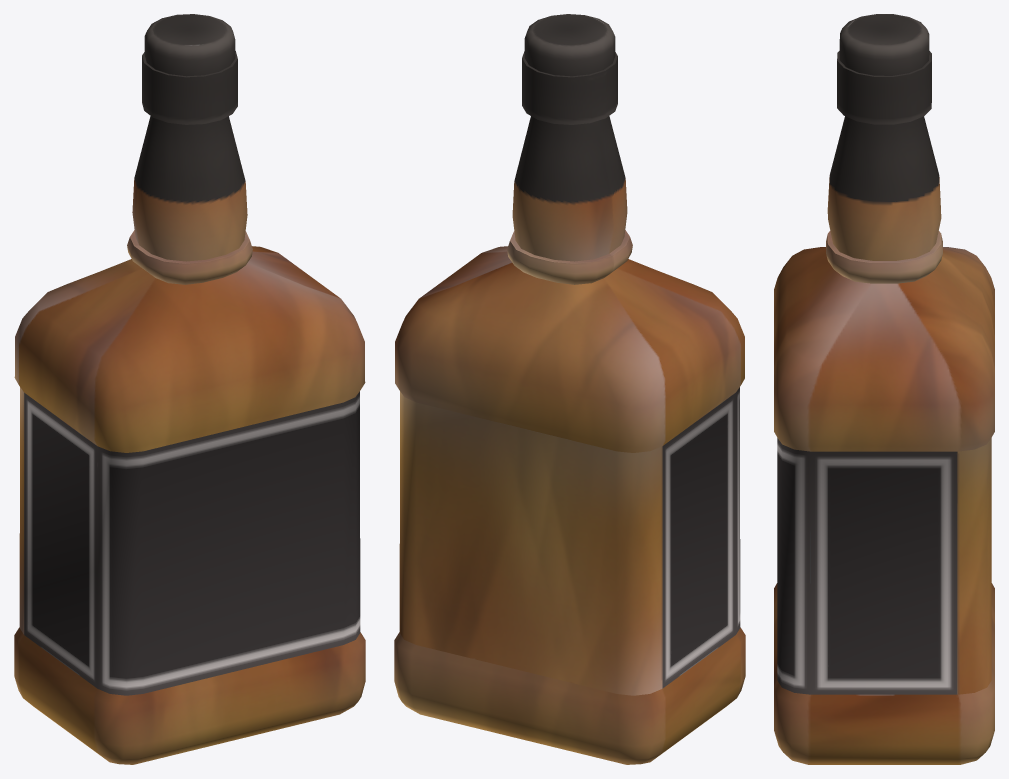
The model's file is whiskey.fbx.
3 renders of one model, left to right at view 1: azimuth 30°, elevation 25°; view 2: azimuth 150°, elevation 25°; view 3: azimuth 270°, elevation 25°, orthographic.
Visible parts, largest first — view 1: whiskey; view 2: whiskey; view 3: whiskey.
Part boxes in pixels (x1,y1,x2,y2): whiskey: (14, 14, 365, 764); whiskey: (394, 14, 745, 764); whiskey: (774, 14, 994, 764).
Size of the model in its own units: 0.6255 by 1.53 by 0.4482.
